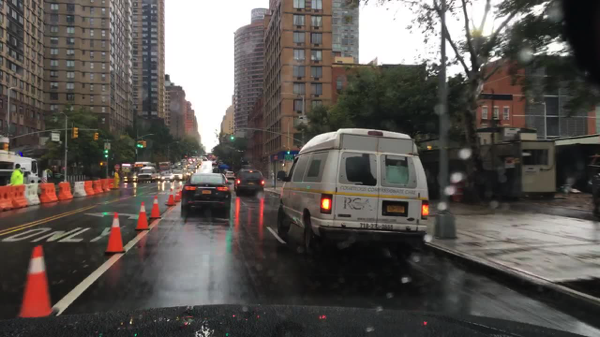bus: (129, 162, 157, 172), (158, 160, 173, 169)
car: (275, 127, 430, 258), (180, 172, 235, 219), (233, 167, 265, 197), (122, 169, 140, 183), (160, 170, 174, 182), (172, 169, 184, 180), (149, 171, 162, 181), (182, 170, 191, 180), (224, 172, 234, 180), (220, 169, 230, 176), (187, 165, 196, 172), (212, 166, 221, 173), (175, 167, 185, 173), (220, 163, 230, 169), (162, 169, 175, 173)
person: (9, 164, 23, 185)
traffic light: (72, 127, 78, 139), (98, 160, 106, 167), (3, 144, 11, 151), (229, 132, 235, 141), (93, 132, 99, 141), (139, 140, 144, 149), (104, 147, 110, 154), (286, 147, 291, 154), (136, 140, 140, 147), (103, 154, 110, 158)
traffic sign: (51, 132, 60, 143), (282, 155, 293, 161), (114, 163, 120, 171)
truck: (0, 135, 44, 184), (136, 166, 157, 181), (120, 163, 132, 174)
